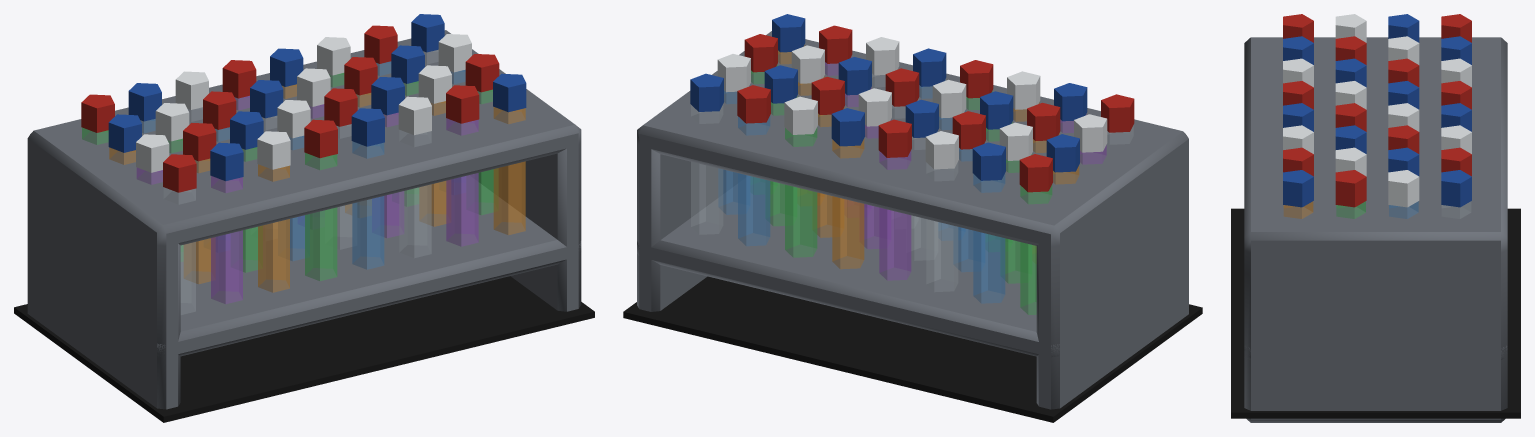
The model's file is specimen_vial_rack.glb.
3 renders of one model, left to right at view 1: azimuth 30°, elevation 25°; view 2: azimuth 150°, elevation 25°; view 3: azimuth 270°, elevation 25°, orthographic. The views are drawn at different scales.
Parts seen in each view (by area): view 1: specimen_vial_rack; view 2: specimen_vial_rack; view 3: specimen_vial_rack.
Part boxes in pixels (box(x1,y1,x2,y2)): specimen_vial_rack: box(14, 14, 594, 422); specimen_vial_rack: box(623, 14, 1202, 422); specimen_vial_rack: box(1231, 14, 1520, 422).
Size of the model in its own units: 0.366 by 0.19 by 0.22.
